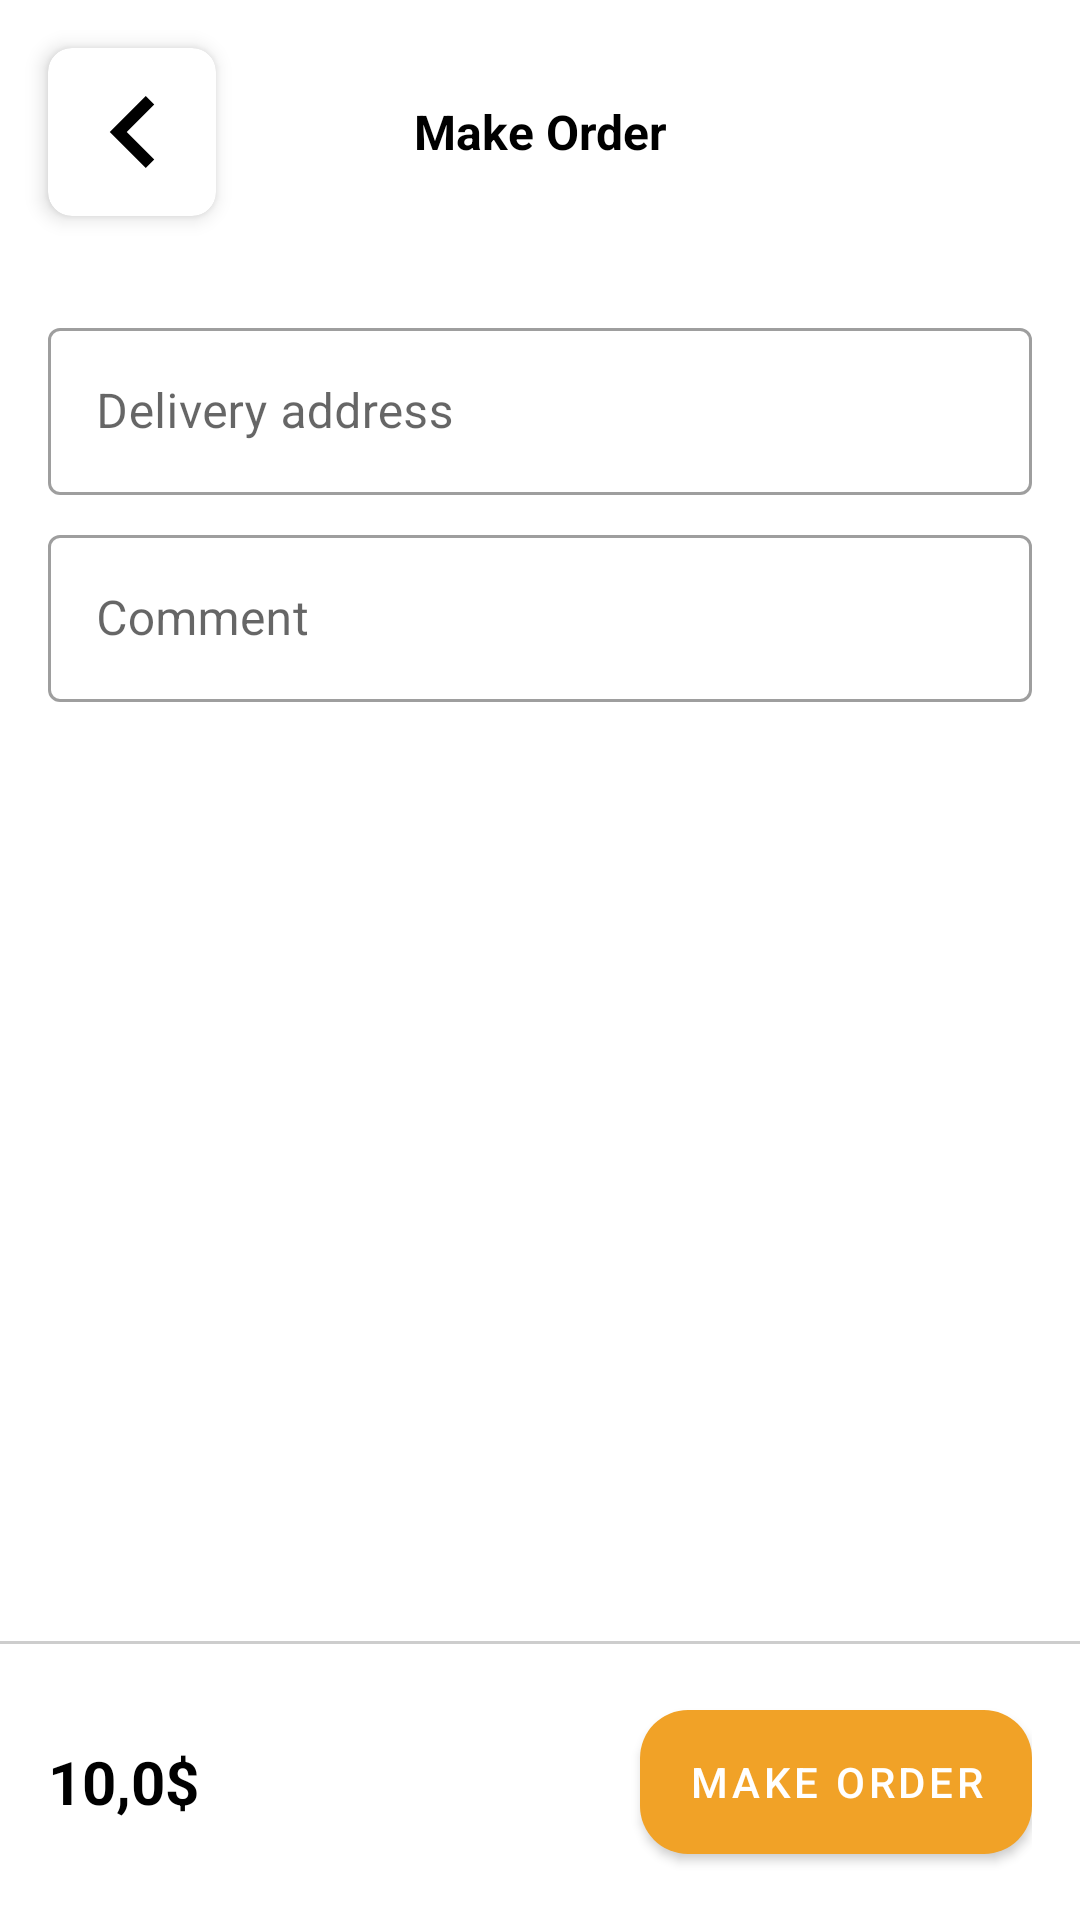

Where to tap for icons on this 1080w x 1920h app screen, as [x,y]:
left chevron: [132,132]
